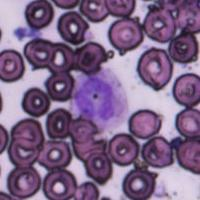N: (70, 68, 128, 132)
